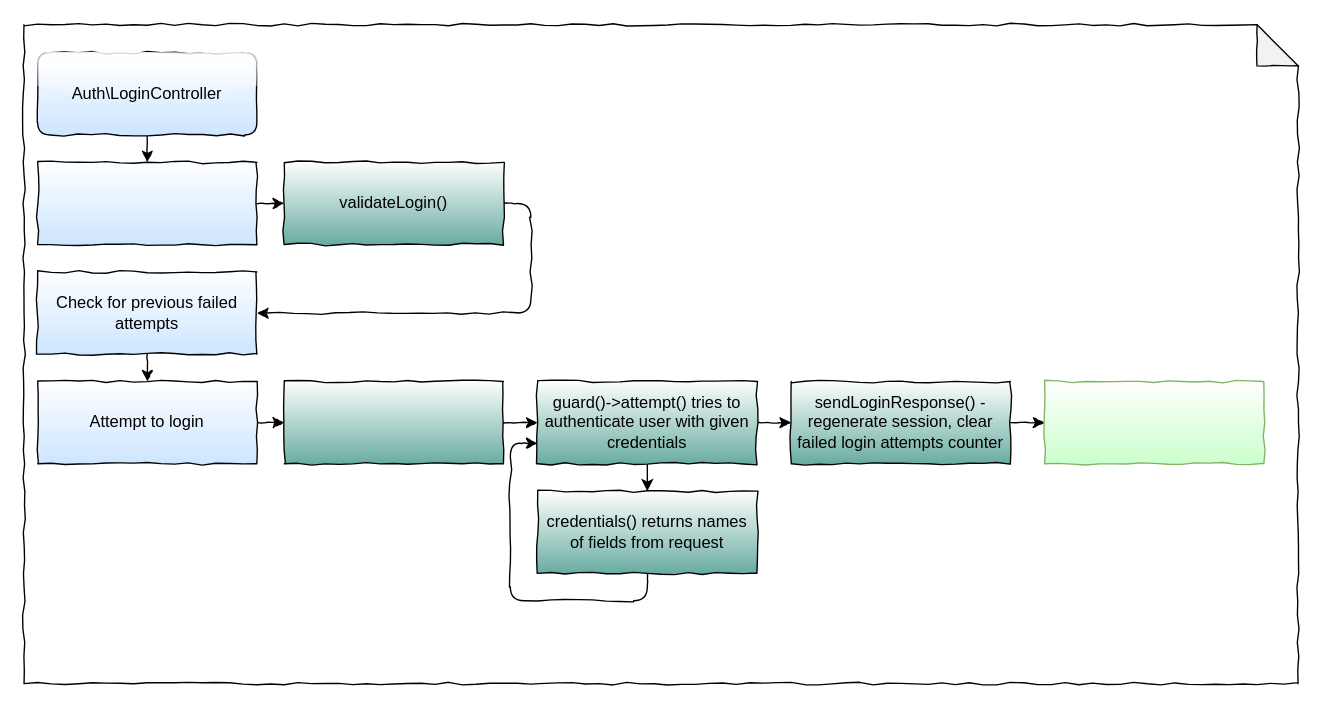
This 1322x707 diagram has some shape labels left out. The shapes that lost their labels are listed below. From the top down, each one's centre as x and y in pixels, then its label:
At pixel 146 203: "Verify username & password input".
At pixel 393 422: "guard() returns default configured Guard".
At pixel 1153 422: "Redirect to intended path".
